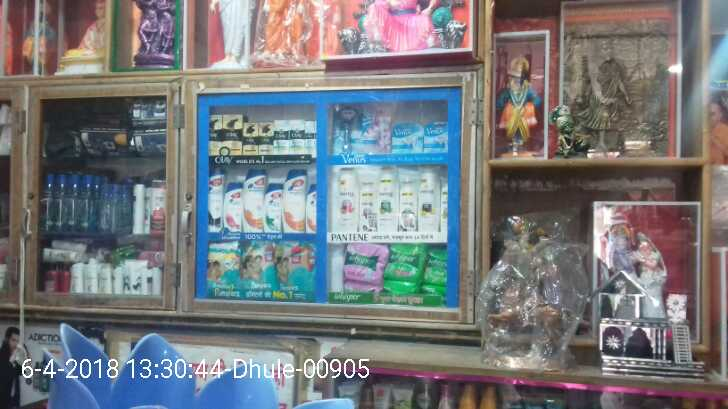venus: (362, 99, 390, 152), (335, 103, 359, 154), (392, 122, 423, 150), (423, 121, 449, 150)
